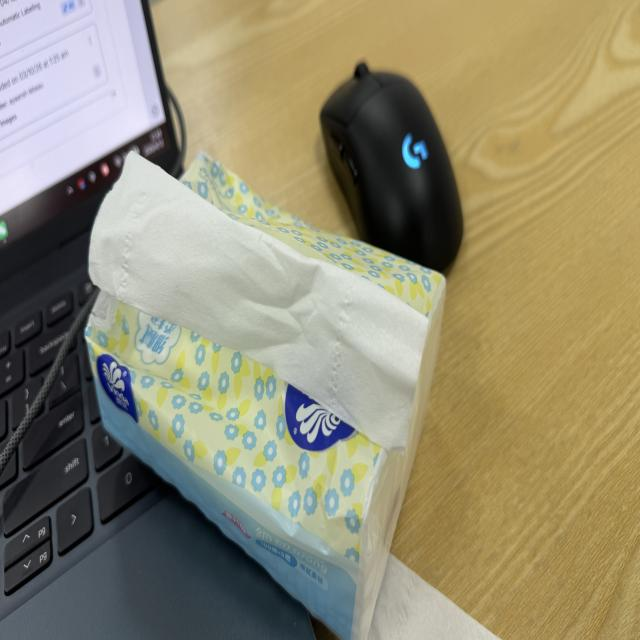tissue: (86, 155, 444, 639), (90, 155, 444, 450), (86, 302, 386, 560), (368, 554, 498, 639)
